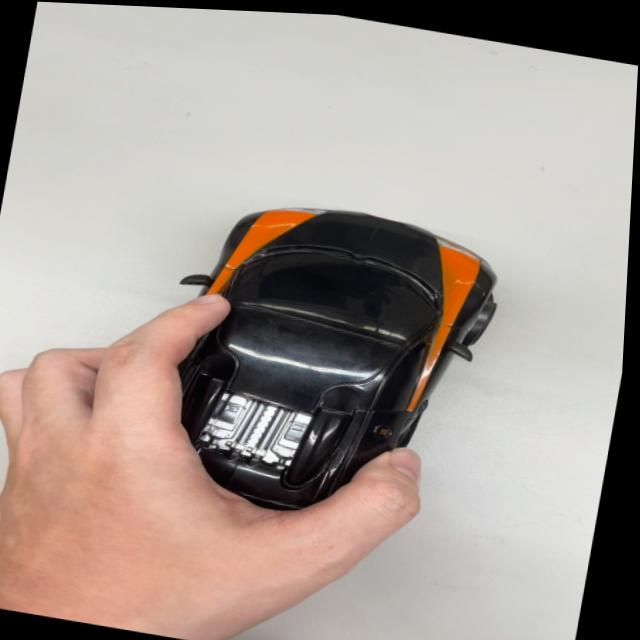vehicle_body: (110, 178, 523, 544)
